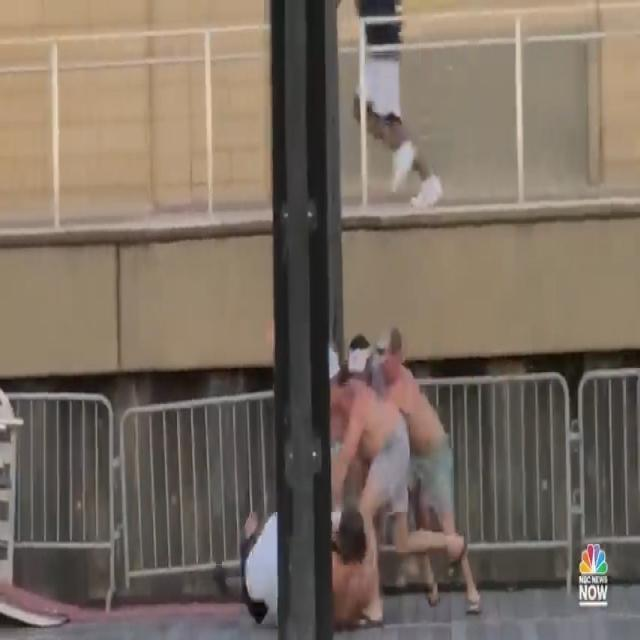fight: (232, 318, 486, 634)
